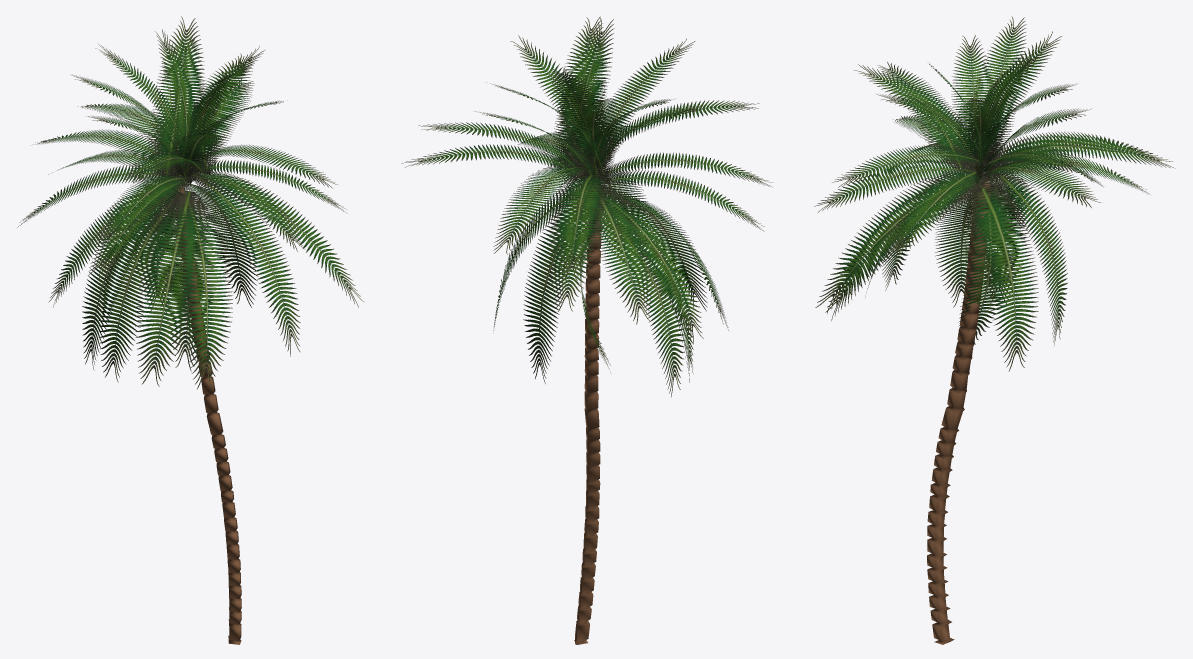
The model's file is palm2.fbx.
3 views of the same model, side by side, from view 1: azimuth 30°, elevation 25°; view 2: azimuth 150°, elevation 25°; view 3: azimuth 270°, elevation 25° (orthographic). The views are drawn at different scales.
Visible parts, largest first — view 1: PalmFrondDiffuse__001, Mesh_000; view 2: PalmFrondDiffuse__001, Mesh_000; view 3: PalmFrondDiffuse__001, Mesh_000.
Boxes of the visible parts, x1,y1,x2,y2 form: PalmFrondDiffuse__001: (17,16,363,389); Mesh_000: (174,187,241,644); PalmFrondDiffuse__001: (401,16,772,397); Mesh_000: (574,193,602,644); PalmFrondDiffuse__001: (814,16,1175,371); Mesh_000: (927,181,990,644).
Bounding box in the file's own units: 912 × 1919 × 1116.
Materials: 2 (1 with a texture image).
